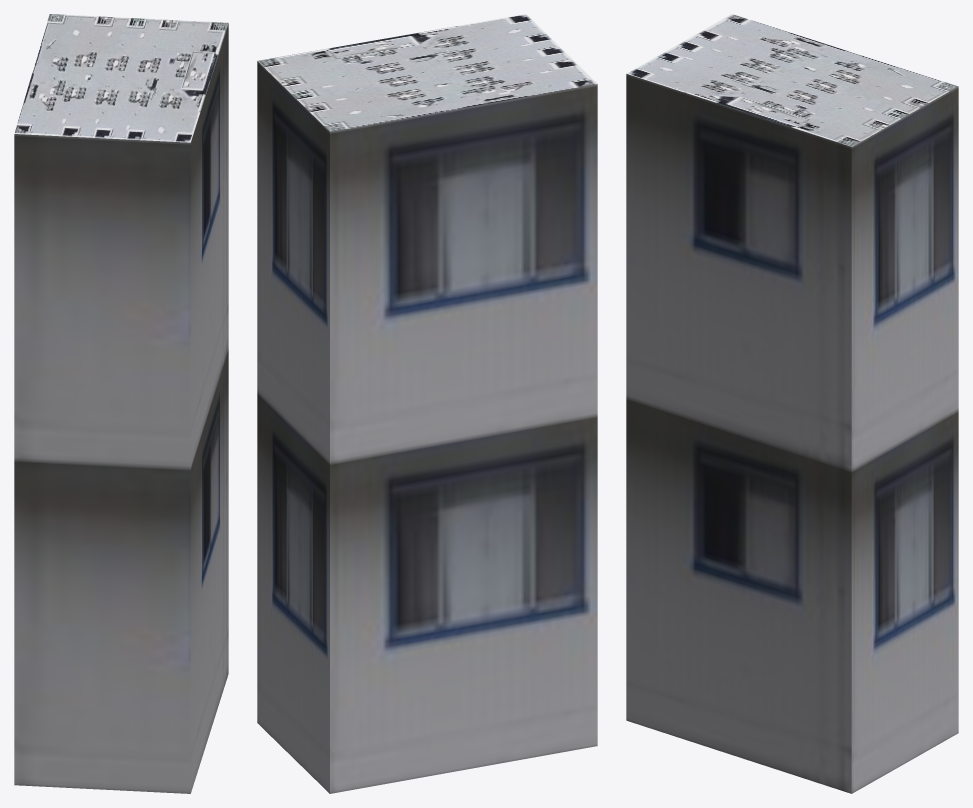
The model's file is ResTex__3818.fbx.
3 renders of one model, left to right at view 1: azimuth 30°, elevation 25°; view 2: azimuth 150°, elevation 25°; view 3: azimuth 270°, elevation 25°, orthographic. The views are drawn at different scales.
Parts seen in each view (by area): view 1: CityEngineMaterial_9_m, CityEngineMaterial_8_m; view 2: CityEngineMaterial_9_m, CityEngineMaterial_8_m; view 3: CityEngineMaterial_9_m, CityEngineMaterial_8_m.
Part boxes in pixels (x1=…): CityEngineMaterial_9_m: x1=14, y1=23, x2=228, y2=793; CityEngineMaterial_8_m: x1=14, y1=14, x2=228, y2=142; CityEngineMaterial_9_m: x1=257, y1=61, x2=597, y2=793; CityEngineMaterial_8_m: x1=257, y1=14, x2=597, y2=131; CityEngineMaterial_9_m: x1=626, y1=74, x2=958, y2=793; CityEngineMaterial_8_m: x1=627, y1=14, x2=957, y2=146.
Bounding box in the file's own units: 2.65 × 6 × 2.79.
2 materials, 2 textured.
